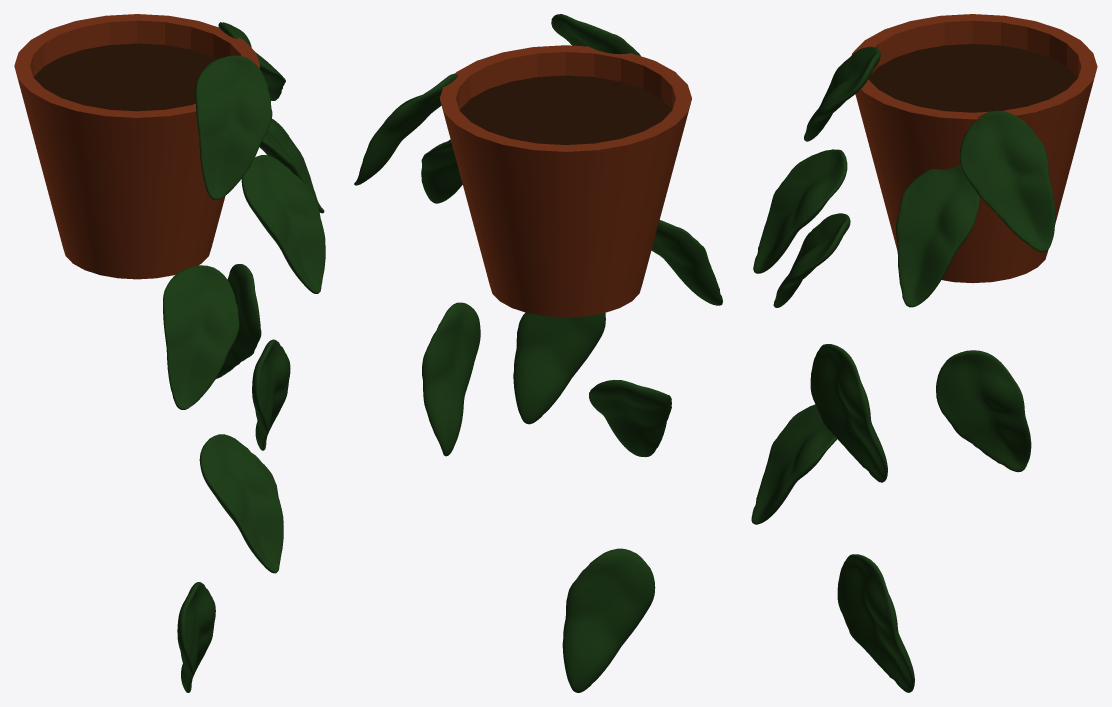
Rendered from PLANT 2.fbx.
3 renders of one model, left to right at view 1: azimuth 30°, elevation 25°; view 2: azimuth 150°, elevation 25°; view 3: azimuth 270°, elevation 25°, orthographic. The views are drawn at different scales.
Visible parts, largest first — view 1: Cone001, Object, ZBrush_defualt_group005, ZBrush_defualt_group001, ZBrush_defualt_group004, ZBrush_defualt_group, ZBrush_defualt_group002, ZBrush_defualt_group003, ZBrush_defualt_group006, ZBrush_defualt_group008, ZBrush_defualt_group007; view 2: Cone001, Object, ZBrush_defualt_group003, ZBrush_defualt_group002, ZBrush_defualt_group006, ZBrush_defualt_group004, ZBrush_defualt_group001, ZBrush_defualt_group007, ZBrush_defualt_group008, ZBrush_defualt_group005; view 3: Cone001, Object, ZBrush_defualt_group007, ZBrush_defualt_group008, ZBrush_defualt_group006, ZBrush_defualt_group002, ZBrush_defualt_group003, ZBrush_defualt_group, ZBrush_defualt_group004, ZBrush_defualt_group001, ZBrush_defualt_group005.
Boxes of the visible parts, bbox=[...] form: Cone001: bbox=[14, 14, 260, 279]; Object: bbox=[33, 43, 217, 111]; ZBrush_defualt_group005: bbox=[195, 55, 272, 200]; ZBrush_defualt_group001: bbox=[163, 265, 239, 409]; ZBrush_defualt_group004: bbox=[199, 434, 283, 573]; ZBrush_defualt_group: bbox=[241, 155, 325, 293]; ZBrush_defualt_group002: bbox=[252, 339, 290, 450]; ZBrush_defualt_group003: bbox=[177, 582, 215, 692]; ZBrush_defualt_group006: bbox=[215, 264, 261, 379]; ZBrush_defualt_group008: bbox=[259, 119, 324, 213]; ZBrush_defualt_group007: bbox=[218, 22, 285, 100]; Cone001: bbox=[439, 45, 691, 317]; Object: bbox=[459, 75, 672, 144]; ZBrush_defualt_group003: bbox=[562, 548, 655, 692]; ZBrush_defualt_group002: bbox=[513, 312, 605, 424]; ZBrush_defualt_group006: bbox=[422, 302, 480, 456]; ZBrush_defualt_group004: bbox=[589, 380, 671, 457]; ZBrush_defualt_group001: bbox=[651, 220, 722, 305]; ZBrush_defualt_group007: bbox=[354, 73, 457, 185]; ZBrush_defualt_group008: bbox=[421, 139, 462, 203]; ZBrush_defualt_group005: bbox=[551, 14, 640, 55]; Cone001: bbox=[852, 14, 1097, 283]; Object: bbox=[868, 44, 1077, 112]; ZBrush_defualt_group007: bbox=[960, 110, 1055, 252]; ZBrush_defualt_group008: bbox=[896, 165, 980, 307]; ZBrush_defualt_group006: bbox=[936, 350, 1031, 472]; ZBrush_defualt_group002: bbox=[810, 344, 887, 482]; ZBrush_defualt_group003: bbox=[837, 554, 914, 692]; ZBrush_defualt_group: bbox=[753, 149, 847, 273]; ZBrush_defualt_group004: bbox=[751, 404, 836, 524]; ZBrush_defualt_group001: bbox=[773, 213, 850, 307]; ZBrush_defualt_group005: bbox=[804, 46, 880, 141].
Bounding box in the file's own units: 4.11 × 9.08 × 4.38.
